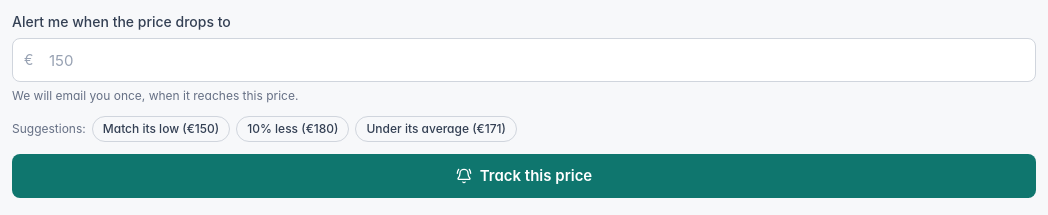
it: TargetPriceForm › offers suggestions that fill the field when clicked
Click the button "Match its low (€150)". click: {"x": 161, "y": 129}
box: [92,116,230,142]
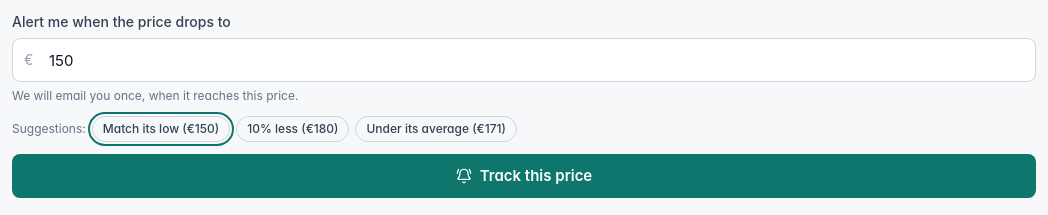
Result: the field labelled "Alert me when the price drops to" holds "150" at [12,38,1036,82]
